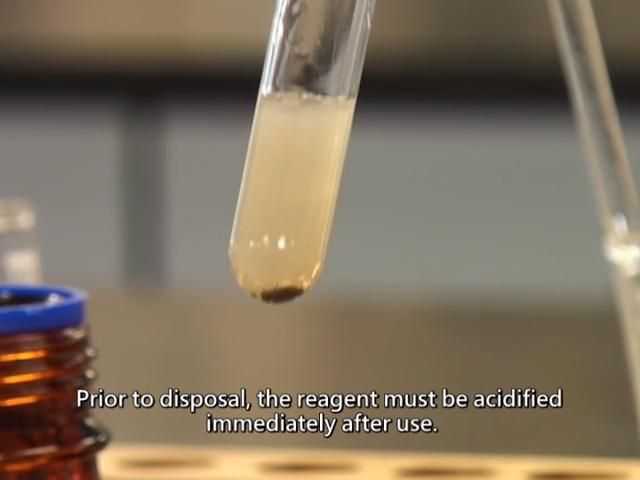Test tube: (228, 39, 333, 300)
